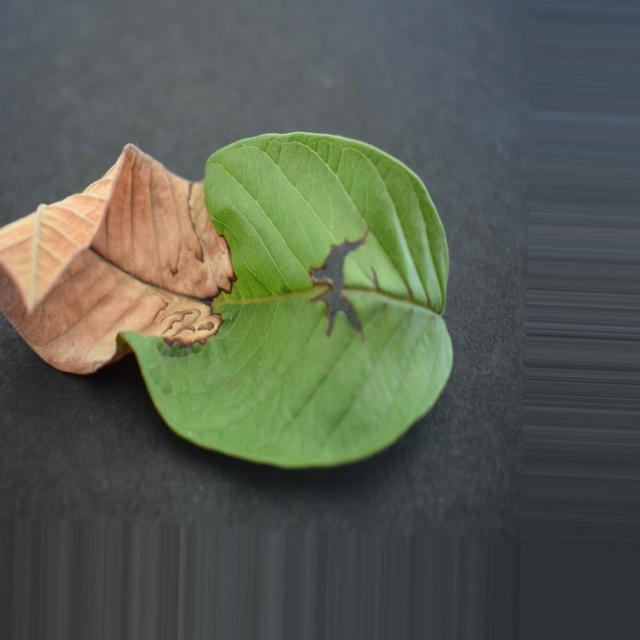Mummification: (0, 133, 452, 467)
